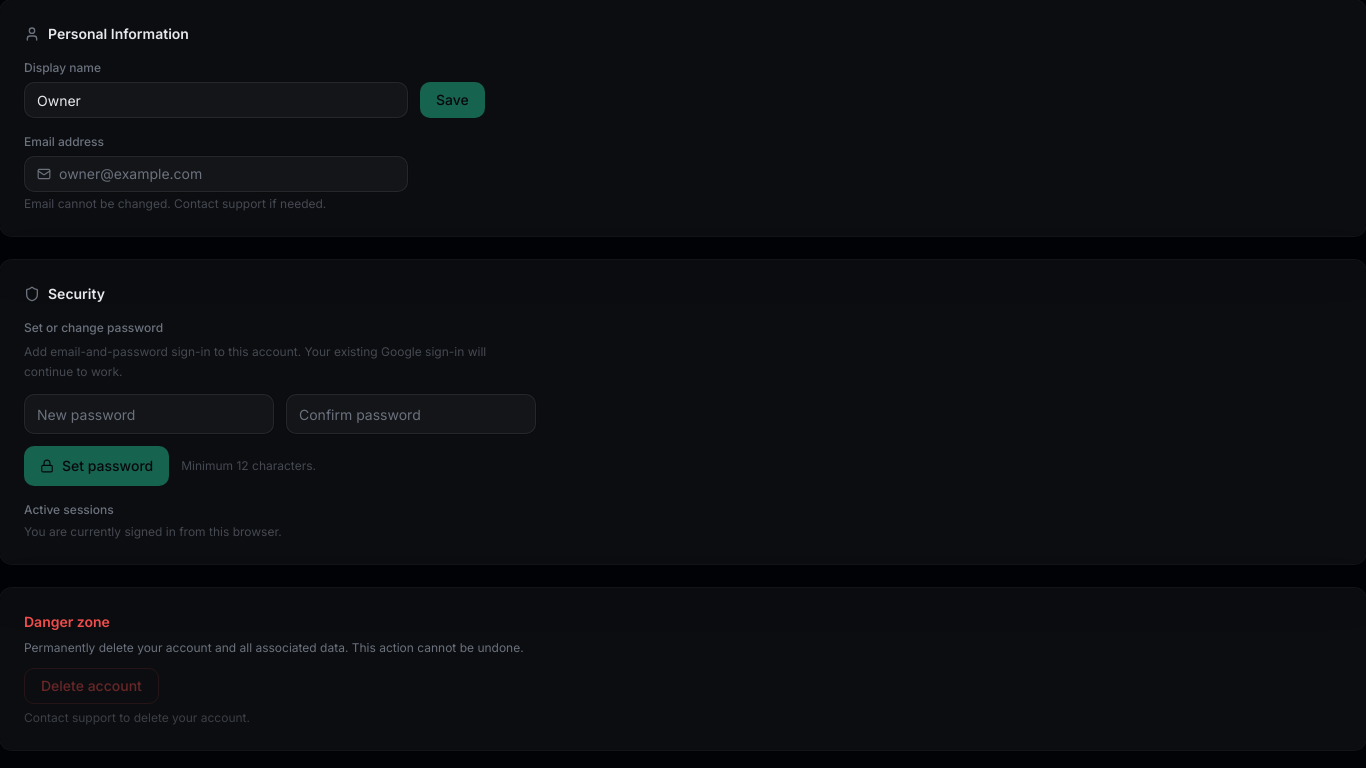
ProfileTab password sign-in › rejects passwords shorter than 12 characters
Type "shortpass" into the password field labelled "New password" at (149, 414), box [24, 394, 274, 434]
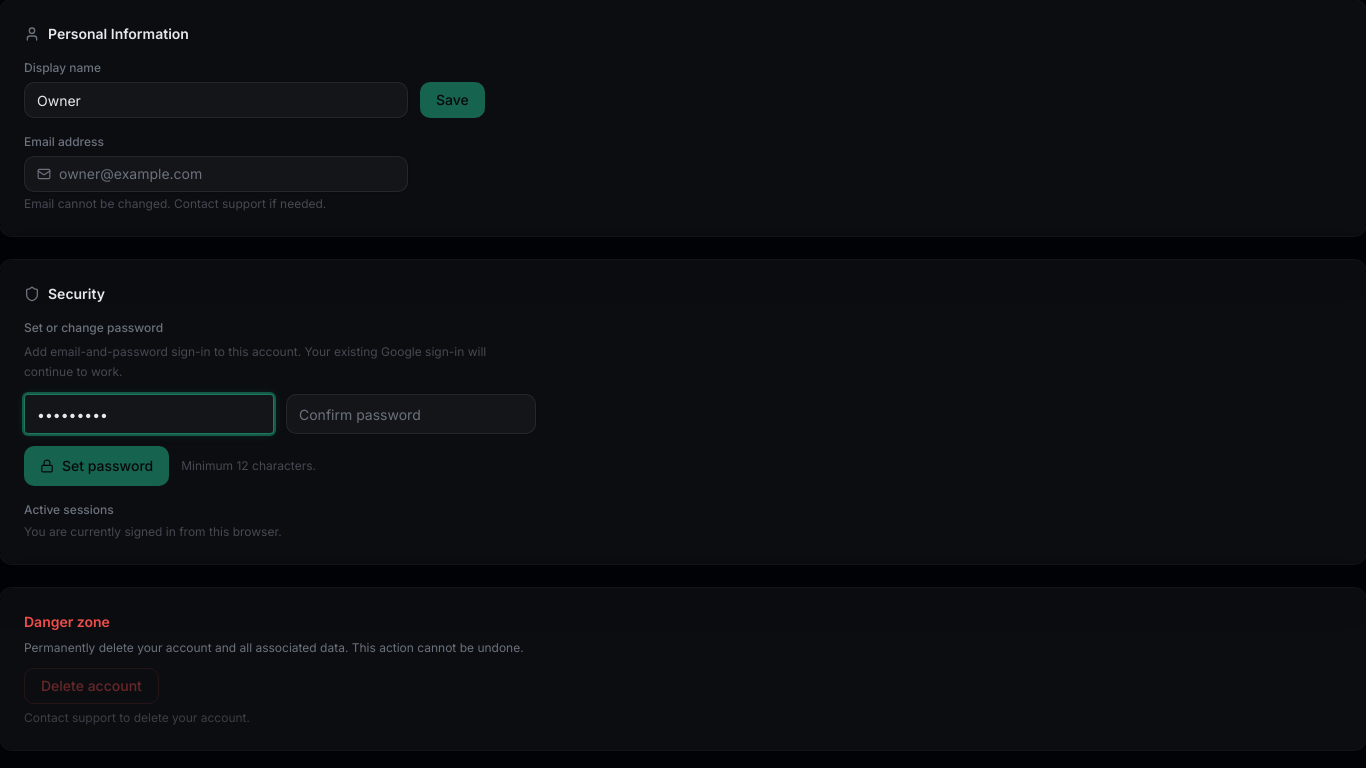
Type "shortpass" into the password field labelled "Confirm password" at (411, 414), box [286, 394, 536, 434]
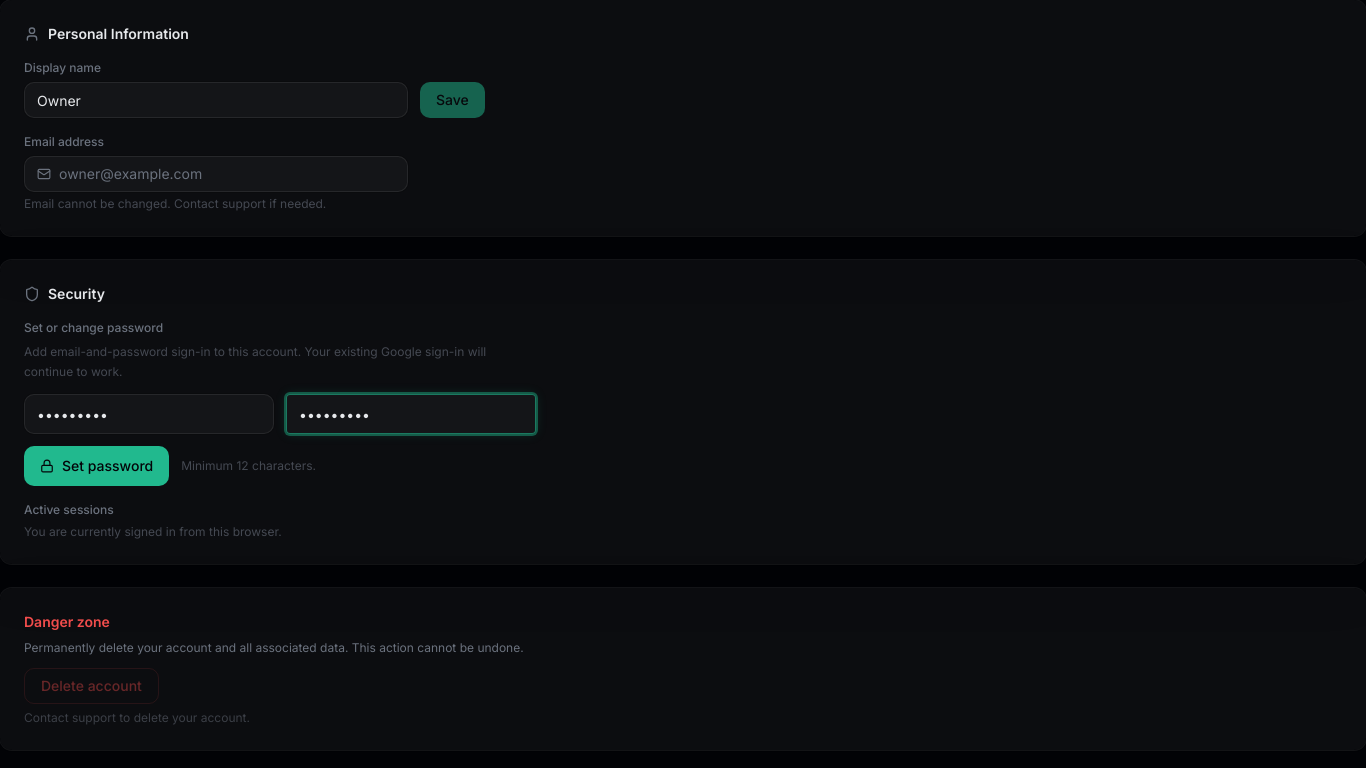
Submit the form named "Set password", box [23, 320, 536, 486]
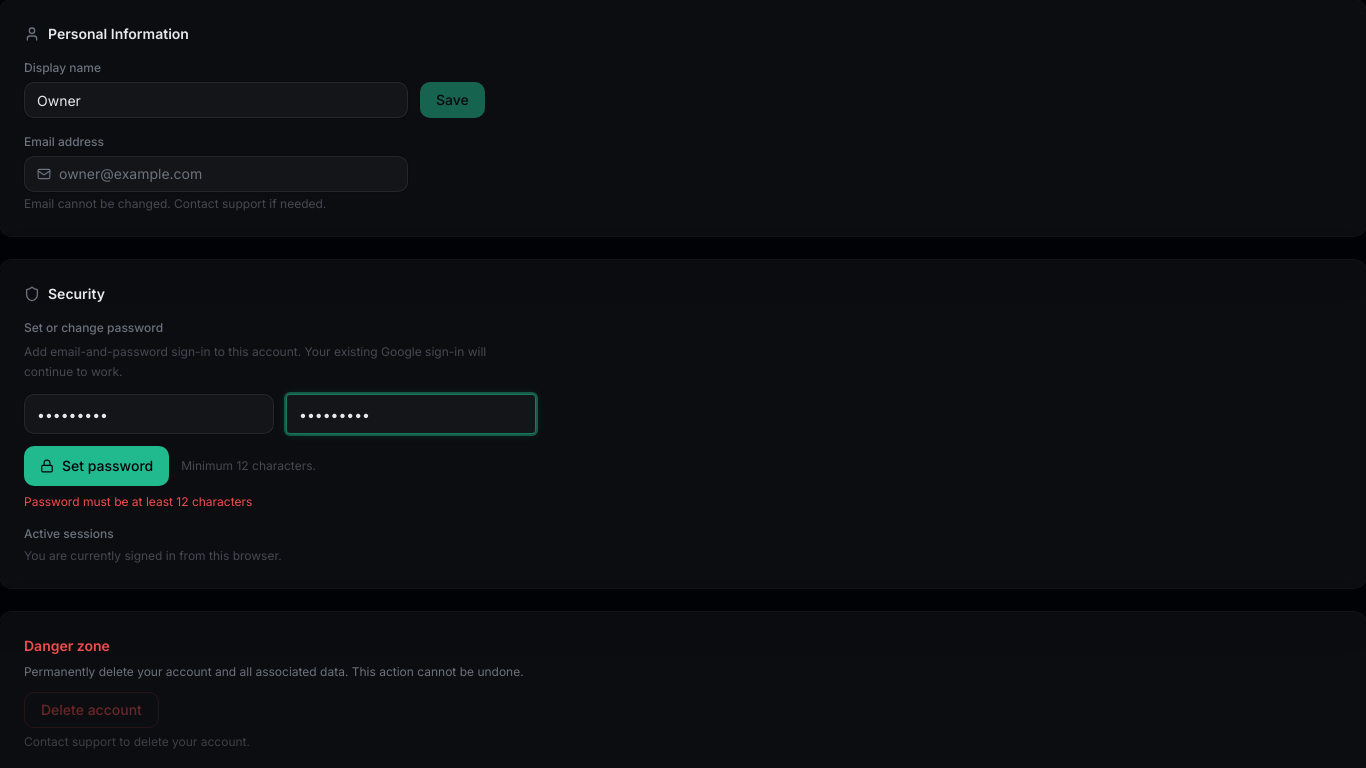
Result: the text "Password must be at least 12 characters" is shown at [24, 494, 252, 509]
